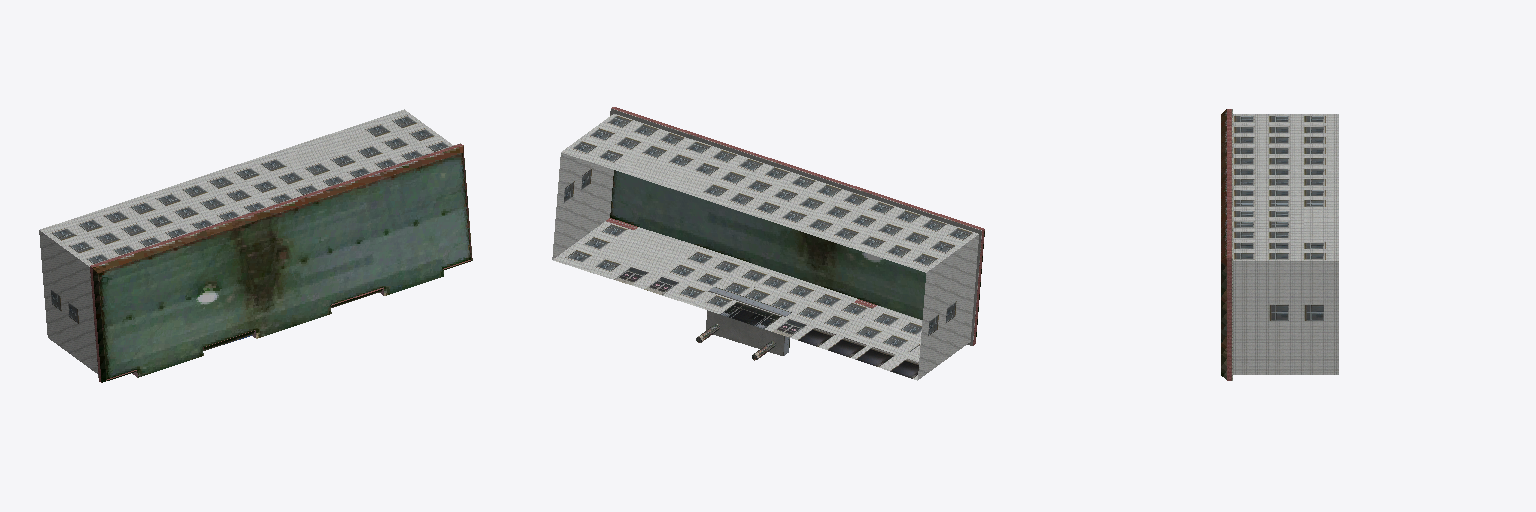
The picture shows the model from 3 angles: view 1: azimuth 30°, elevation 25°; view 2: azimuth 150°, elevation 25°; view 3: azimuth 270°, elevation 25°; orthographic projection.
Visible parts, largest first — view 1: Group_MatrixTransform_i95011_Geometry_14, Group_MatrixTransform_i95011_Geometry_11, Group_MatrixTransform_i95011_Geometry_12, Group_MatrixTransform_i95011_Geometry_17, Group_MatrixTransform_i95011_Geometry_8, Group_MatrixTransform_i95011_Geometry_0, Group_MatrixTransform_i95011_Geometry_2; view 2: Group_MatrixTransform_i95011_Geometry_11, Group_MatrixTransform_i95011_Geometry_14, Group_MatrixTransform_i95011_Geometry_12, Group_MatrixTransform_i95011_Geometry_13, Group_MatrixTransform_i95011_Geometry_6, Group_MatrixTransform_i95011_Geometry_8, Group_MatrixTransform_i95011_Geometry_3, Group_MatrixTransform_i95011_Geometry_2, Group_MatrixTransform_i95011_Geometry_0, Group_MatrixTransform_i95011_Geometry_4, Group_MatrixTransform_i95011_Geometry_5, Group_MatrixTransform_i95011_Geometry_7; view 3: Group_MatrixTransform_i95011_Geometry_11, Group_MatrixTransform_i95011_Geometry_12, Group_MatrixTransform_i95011_Geometry_2, Group_MatrixTransform_i95011_Geometry_8, Group_MatrixTransform_i95011_Geometry_17, Group_MatrixTransform_i95011_Geometry_0.
Boxes of the visible parts, <box> form: Group_MatrixTransform_i95011_Geometry_14: <box>98,153,470,379</box>; Group_MatrixTransform_i95011_Geometry_11: <box>40,109,453,266</box>; Group_MatrixTransform_i95011_Geometry_12: <box>39,230,97,373</box>; Group_MatrixTransform_i95011_Geometry_17: <box>92,145,472,382</box>; Group_MatrixTransform_i95011_Geometry_8: <box>90,143,471,382</box>; Group_MatrixTransform_i95011_Geometry_0: <box>277,128,365,163</box>; Group_MatrixTransform_i95011_Geometry_2: <box>43,281,83,329</box>; Group_MatrixTransform_i95011_Geometry_11: <box>553,114,978,361</box>; Group_MatrixTransform_i95011_Geometry_14: <box>610,170,925,319</box>; Group_MatrixTransform_i95011_Geometry_12: <box>552,153,978,379</box>; Group_MatrixTransform_i95011_Geometry_13: <box>610,109,981,355</box>; Group_MatrixTransform_i95011_Geometry_6: <box>581,256,709,304</box>; Group_MatrixTransform_i95011_Geometry_8: <box>606,107,984,345</box>; Group_MatrixTransform_i95011_Geometry_3: <box>821,335,918,380</box>; Group_MatrixTransform_i95011_Geometry_2: <box>556,164,960,343</box>; Group_MatrixTransform_i95011_Geometry_0: <box>616,158,704,193</box>; Group_MatrixTransform_i95011_Geometry_4: <box>768,318,836,347</box>; Group_MatrixTransform_i95011_Geometry_5: <box>717,301,784,329</box>; Group_MatrixTransform_i95011_Geometry_7: <box>709,287,791,355</box>; Group_MatrixTransform_i95011_Geometry_11: <box>1233,114,1338,260</box>; Group_MatrixTransform_i95011_Geometry_12: <box>1233,261,1338,374</box>; Group_MatrixTransform_i95011_Geometry_2: <box>1260,301,1338,323</box>; Group_MatrixTransform_i95011_Geometry_8: <box>1227,109,1232,380</box>; Group_MatrixTransform_i95011_Geometry_17: <box>1221,109,1226,379</box>; Group_MatrixTransform_i95011_Geometry_0: <box>1304,210,1338,238</box>.
Bounding box in the file's own units: 39.78 × 17.18 × 10.73.
Materials: 20 (20 with a texture image).